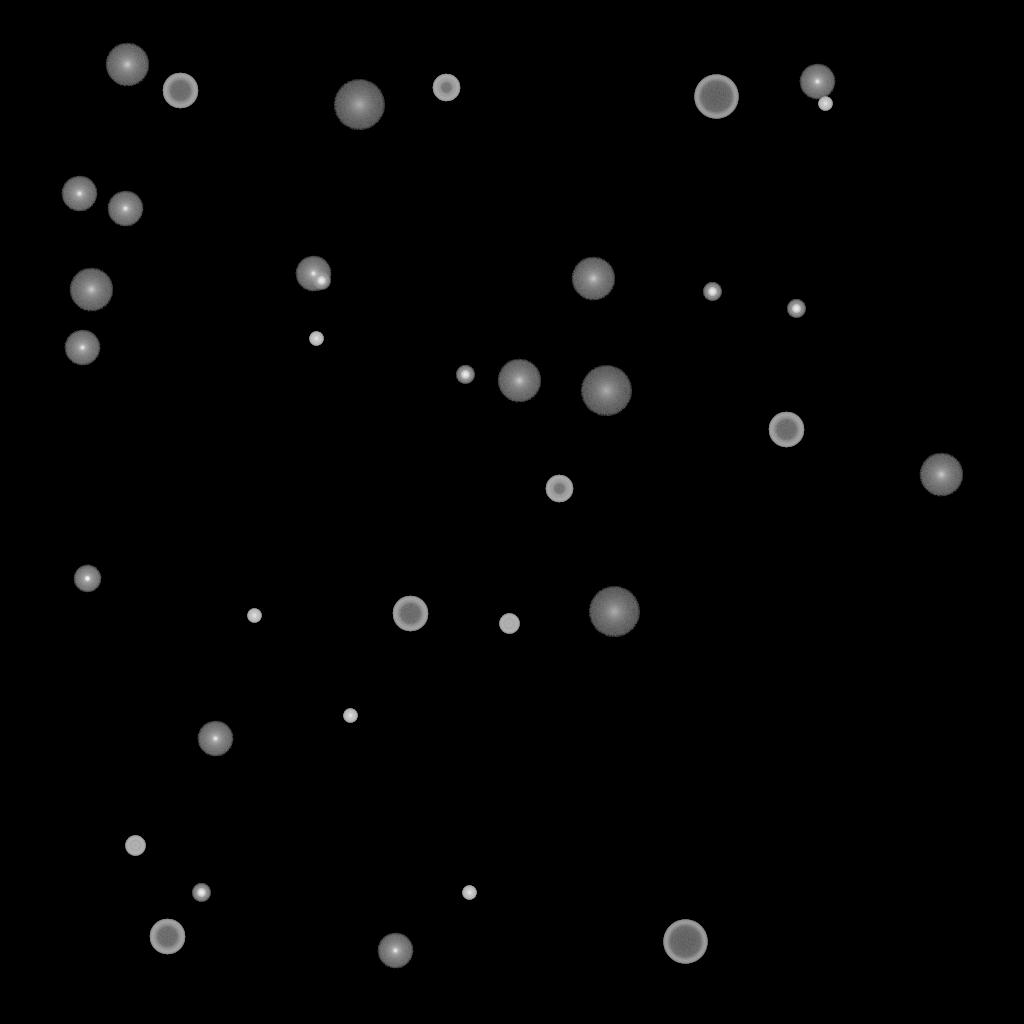depth:-10: (73, 565, 101, 593)
depth:-20: (787, 300, 805, 318), (192, 884, 210, 902), (312, 272, 330, 290), (456, 366, 474, 384), (703, 283, 721, 301)
depth:-30: (343, 709, 357, 723), (309, 332, 323, 346), (247, 609, 261, 623), (818, 97, 832, 111), (462, 886, 476, 900)
depth:-40: (125, 836, 145, 856), (499, 614, 519, 634)
depth:-50: (545, 475, 573, 503), (432, 74, 460, 102)
depth:-60: (162, 73, 198, 109), (768, 412, 804, 448), (149, 919, 185, 955), (392, 596, 428, 632)
depth:-70: (663, 920, 707, 964), (694, 75, 738, 119)
depth:0: (64, 330, 100, 366), (377, 933, 413, 969), (799, 64, 835, 100), (61, 176, 97, 212), (107, 191, 143, 227), (295, 256, 331, 292), (197, 721, 233, 757)
depth:10: (571, 257, 615, 301), (919, 453, 963, 497), (69, 268, 113, 312), (105, 43, 149, 87), (497, 359, 541, 403)
depth:20: (333, 80, 385, 130), (580, 366, 632, 416), (588, 587, 640, 637)
